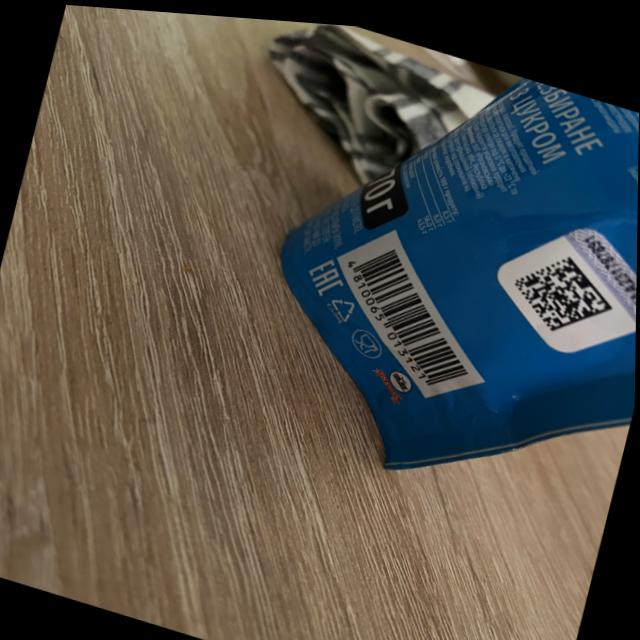datamatrix: (507, 235, 623, 339)
